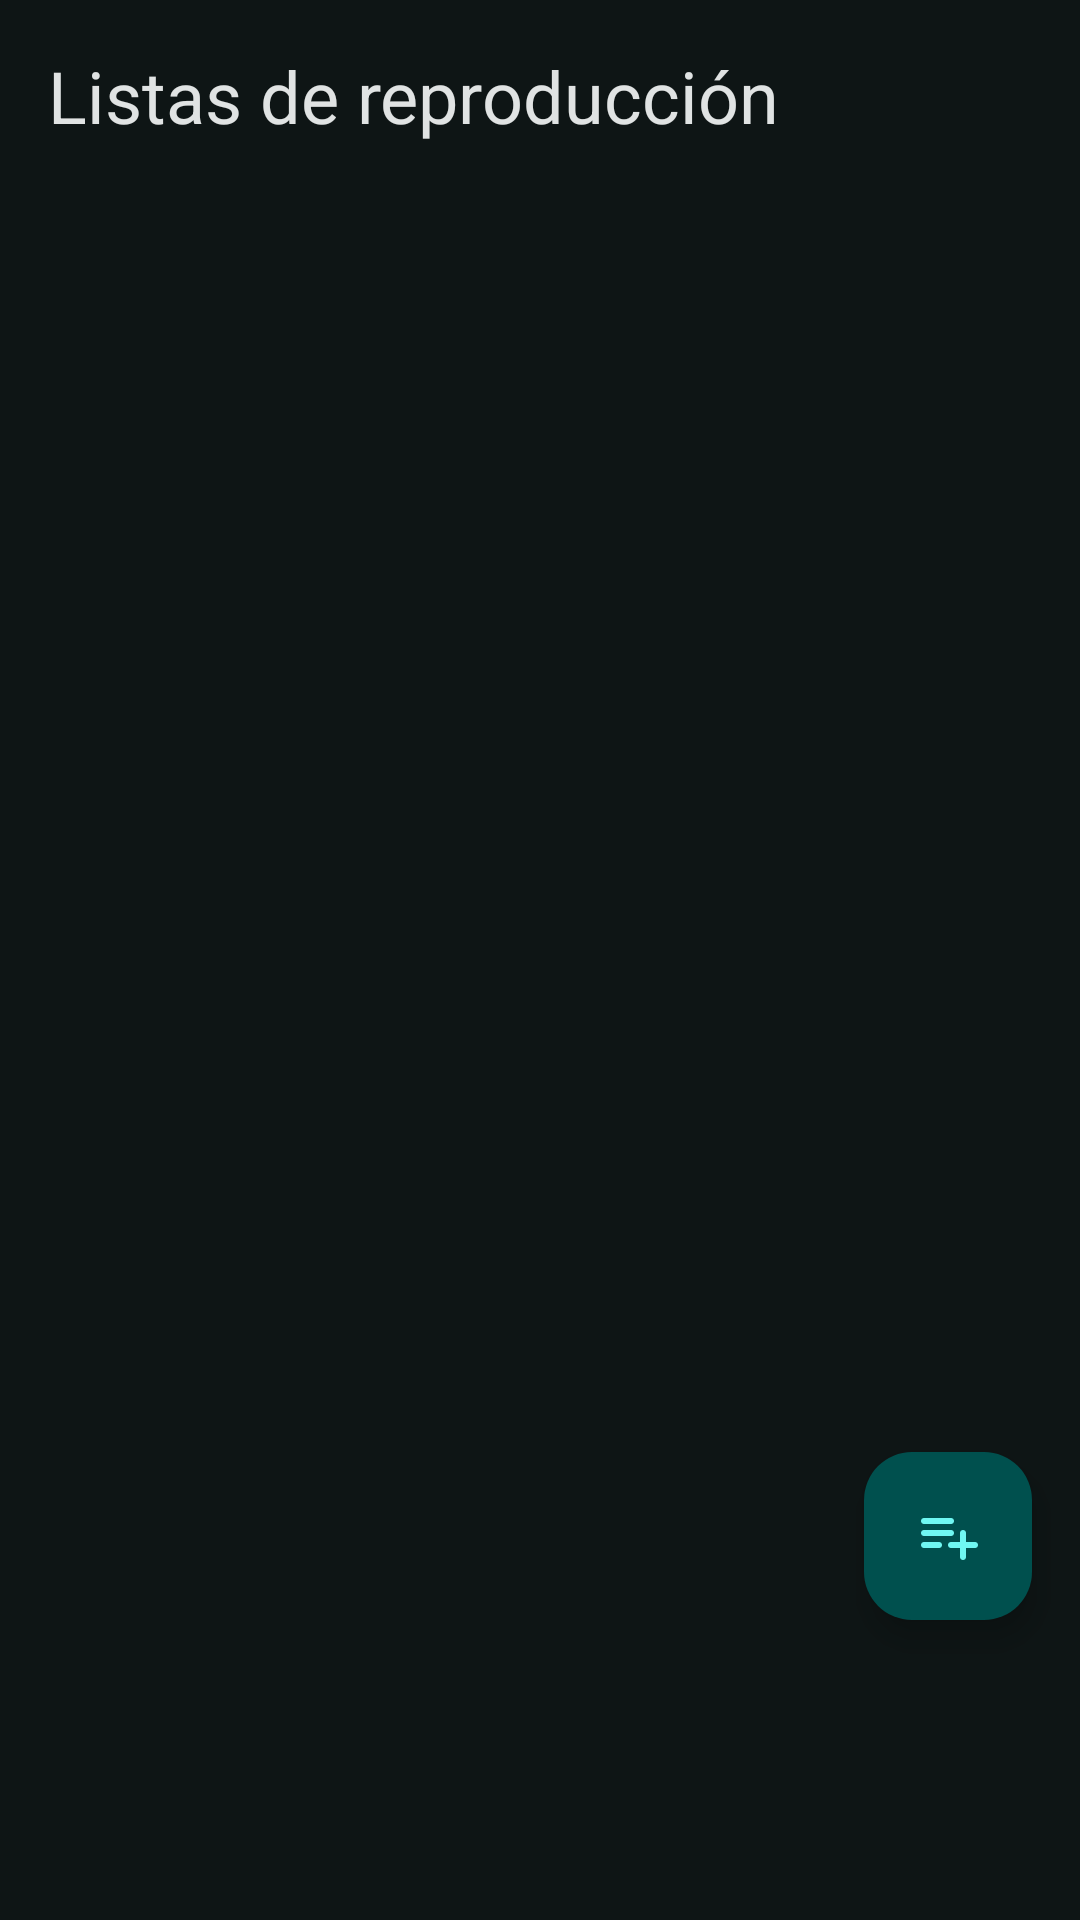

Icon bounding boxes for this 1080px×1920px phone screenshot, format (x1, y1, x2, y2):
Nueva lista: (864, 1452, 1032, 1620)
